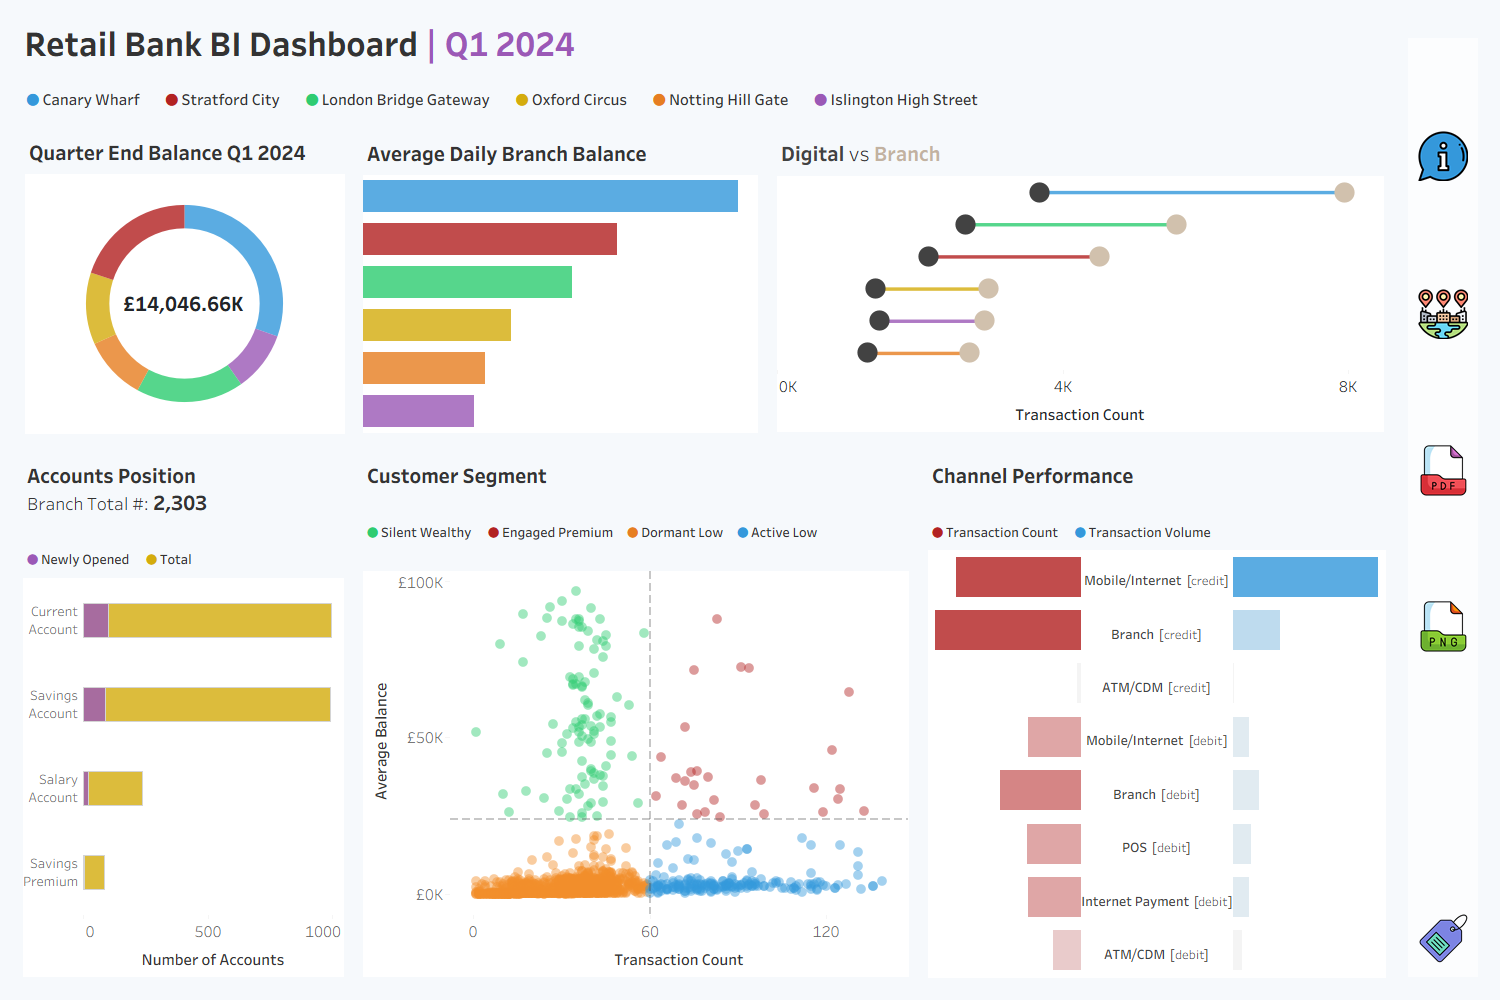

This screenshot's page, from the dashboard's own definition file:
{"tool":"tableau","page":{"name":"Dashboard 1","canvas":[1500,1000],"ordinal":0},"visuals":[{"type":"blank","box":[982,10,417,47]},{"type":"text","box":[16,16,1377,53]},{"type":"blank","box":[1408,38,70,79]},{"type":"filter","title":"Q1 balance","param":"[federated.0jd546i0ltew4g1cwf1n714vyswz].[none:branch_name:nk]","box":[982,57,417,73]},{"type":"text","box":[13,79,1383,41]},{"type":"blank","box":[25,81,1359,747]},{"type":"text","box":[12,89,1379,885]},{"type":"dashboard-object","box":[1408,117,70,79]},{"type":"worksheet","title":"Q1 balance","mark":"Pie","cols":["Calculation_343118026010337292","Calculation_343118026010337292"],"box":[16,123,337,319]},{"type":"worksheet","title":"Average day end balance","mark":"Automatic","rows":["branch_name"],"cols":["Calculation_587719781431541778"],"box":[353,123,414,319]},{"type":"worksheet","title":"Digitalisation gap","mark":"Circle","rows":["branch_name"],"box":[767,123,626,319]},{"type":"blank","box":[982,130,417,47]},{"type":"blank","box":[1408,196,70,79]},{"type":"dashboard-object","box":[1408,275,70,78]},{"type":"blank","box":[1408,353,70,78]},{"type":"dashboard-object","box":[1408,431,70,78]},{"type":"worksheet","title":"No of accounts","mark":"Bar","rows":["account_type"],"cols":["gold_dim_account.csv_CCD8B486F9754DC08EB1A8ADE149F38F","Calculation_587719781438984211"],"box":[13,445,340,542]},{"type":"worksheet","title":"Customer Behaviour","mark":"Automatic","rows":["no of txns per customer* (copy)_840484310074564609"],"cols":["Calculation_819092211889045505"],"box":[353,445,565,542]},{"type":"worksheet","title":"Channel Performance","mark":"Automatic","rows":["transaction_type","transaction_channel"],"cols":["gold_fact_transaction.csv_708EBA304979457F97BE6C01826EB474","Calculation_343118026028904466","amount"],"box":[918,445,478,542]},{"type":"blank","box":[1408,509,70,78]},{"type":"dashboard-object","box":[1408,587,70,78]},{"type":"blank","box":[1408,665,70,78]},{"type":"blank","box":[1408,743,70,78]},{"type":"blank","box":[1408,821,70,78]},{"type":"text","box":[25,828,1359,154]},{"type":"dashboard-object","box":[1408,899,70,78]}]}

Visuals, with their boxes in screenshot pixels (x1, y1, x2, y2), scaled from the page's 1500x1000 canvas onto the 1500x1000 screenshot:
blank: x1=982, y1=10, x2=1399, y2=57
text: x1=16, y1=16, x2=1393, y2=69
blank: x1=1408, y1=38, x2=1478, y2=117
"Q1 balance" filter: x1=982, y1=57, x2=1399, y2=130
text: x1=13, y1=79, x2=1396, y2=120
blank: x1=25, y1=81, x2=1384, y2=828
text: x1=12, y1=89, x2=1391, y2=974
dashboard-object: x1=1408, y1=117, x2=1478, y2=196
"Q1 balance" worksheet (Pie marks): x1=16, y1=123, x2=353, y2=442
"Average day end balance" worksheet: x1=353, y1=123, x2=767, y2=442
"Digitalisation gap" worksheet (Circle marks): x1=767, y1=123, x2=1393, y2=442
blank: x1=982, y1=130, x2=1399, y2=177
blank: x1=1408, y1=196, x2=1478, y2=275
dashboard-object: x1=1408, y1=275, x2=1478, y2=353
blank: x1=1408, y1=353, x2=1478, y2=431
dashboard-object: x1=1408, y1=431, x2=1478, y2=509
"No of accounts" worksheet (Bar marks): x1=13, y1=445, x2=353, y2=987
"Customer Behaviour" worksheet: x1=353, y1=445, x2=918, y2=987
"Channel Performance" worksheet: x1=918, y1=445, x2=1396, y2=987
blank: x1=1408, y1=509, x2=1478, y2=587
dashboard-object: x1=1408, y1=587, x2=1478, y2=665
blank: x1=1408, y1=665, x2=1478, y2=743
blank: x1=1408, y1=743, x2=1478, y2=821
blank: x1=1408, y1=821, x2=1478, y2=899
text: x1=25, y1=828, x2=1384, y2=982
dashboard-object: x1=1408, y1=899, x2=1478, y2=977
